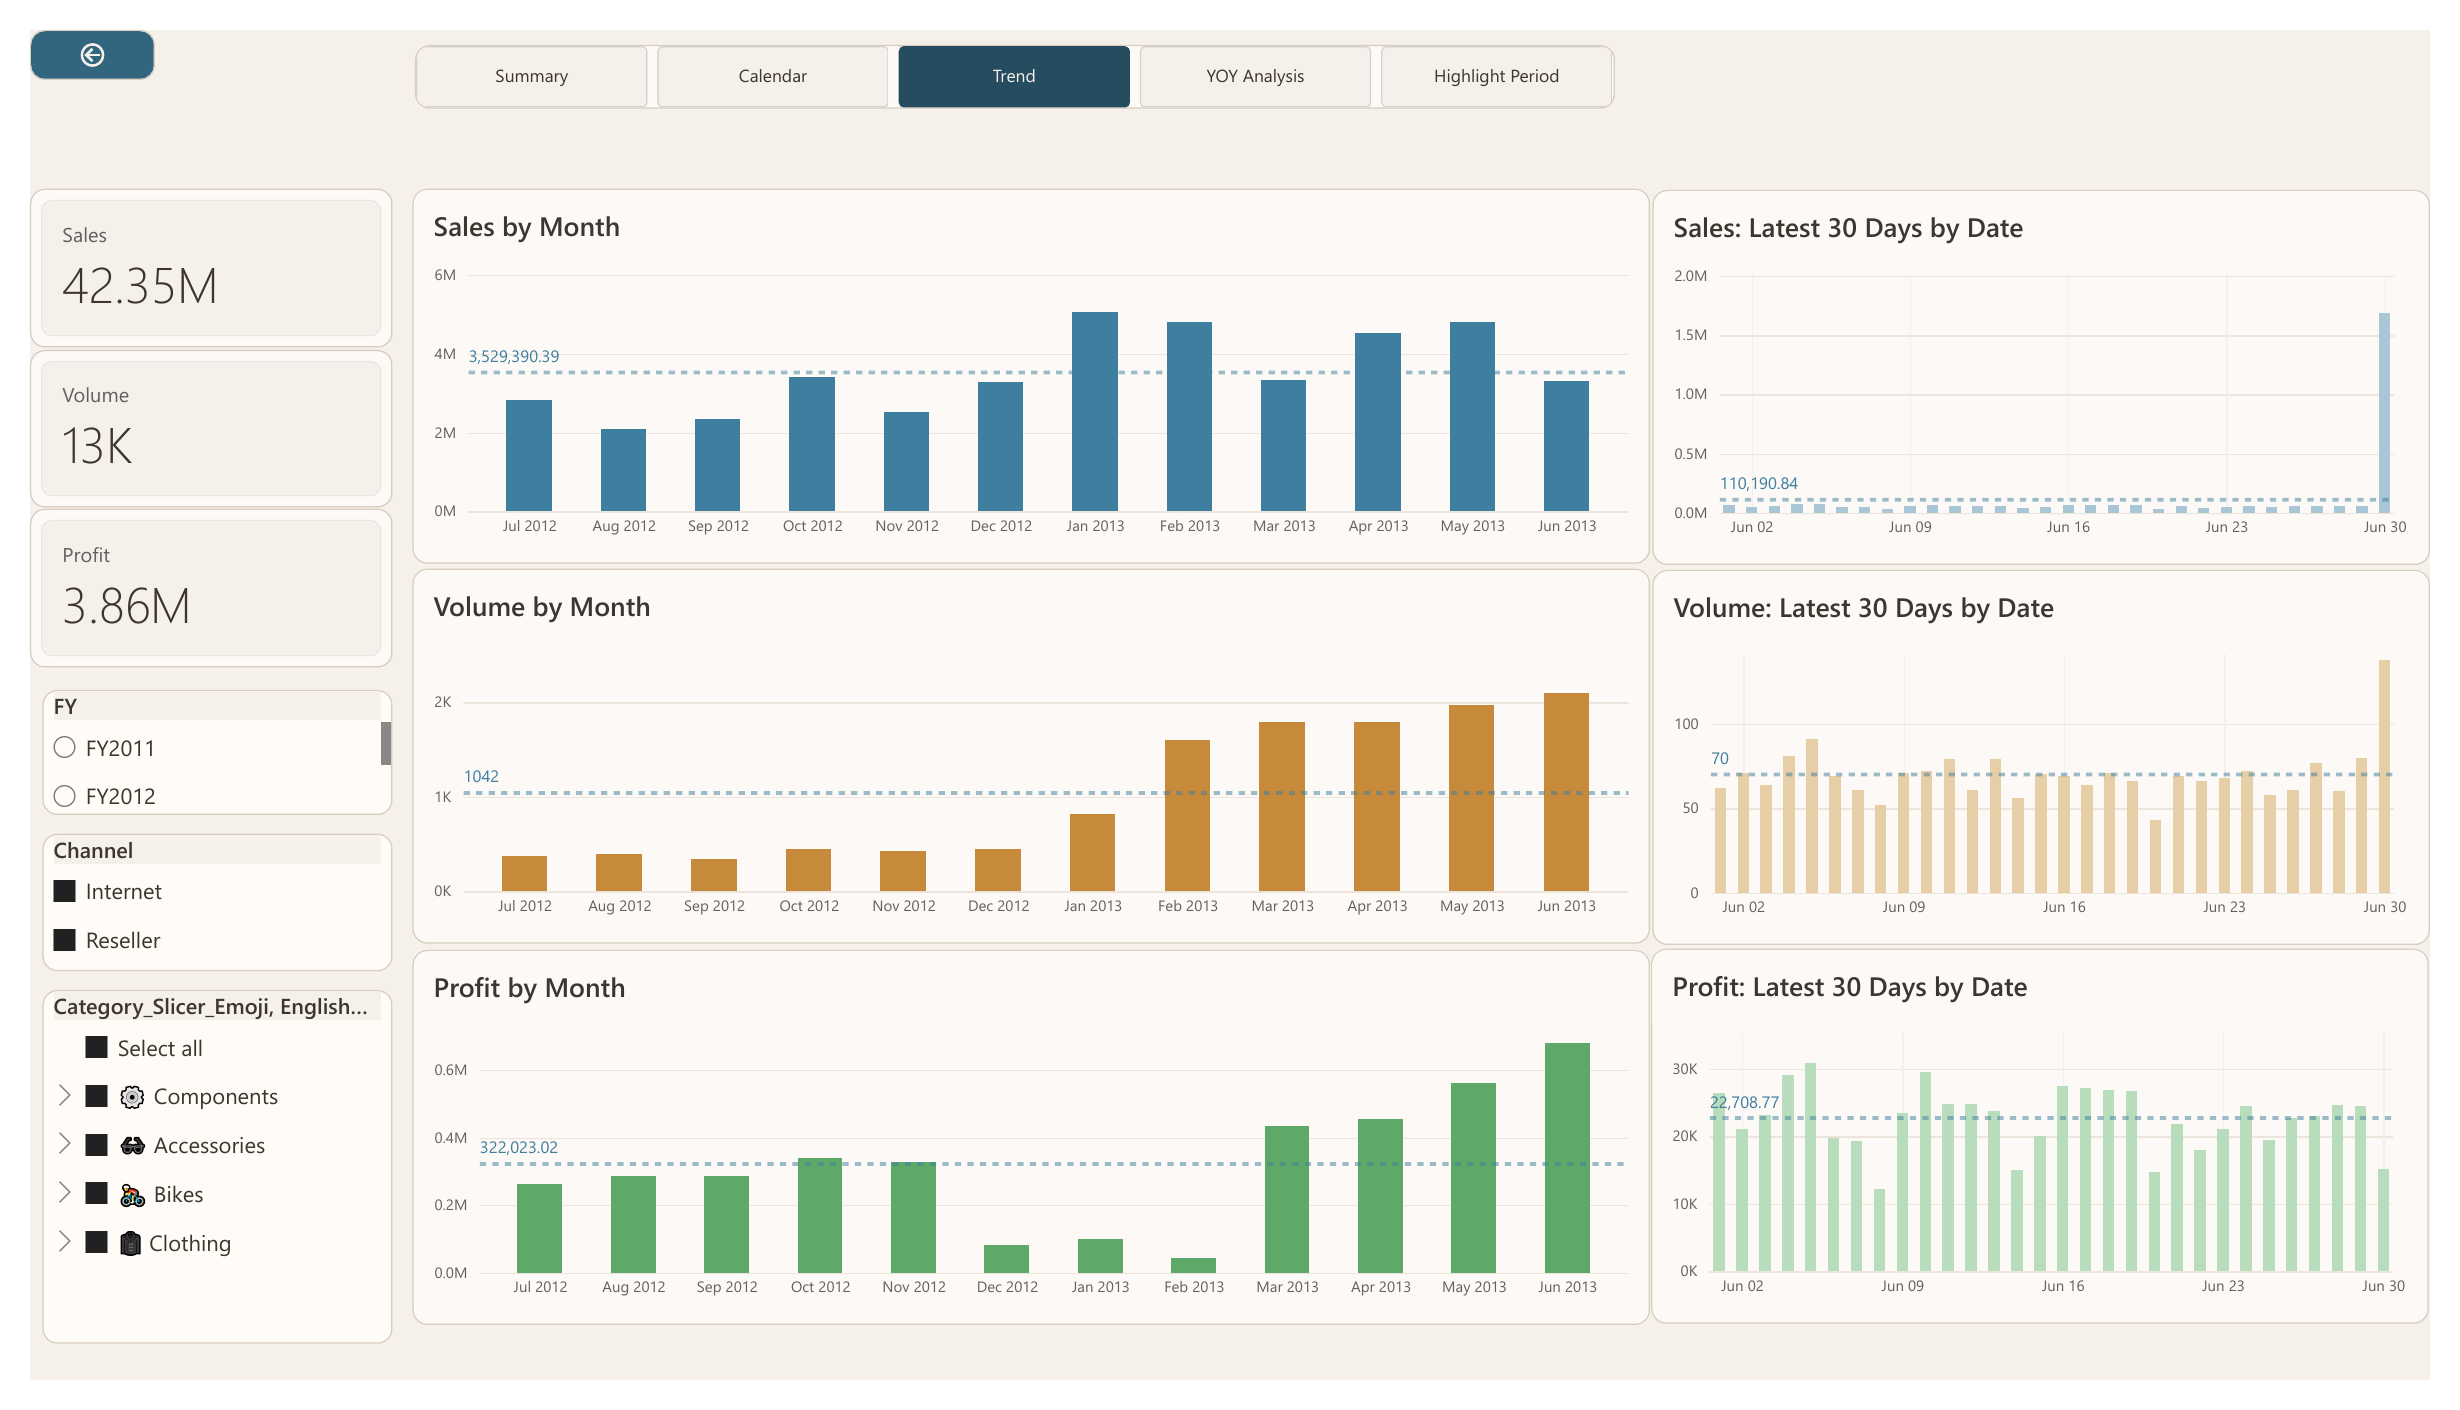

The page's visual inventory and layout, read from the dashboard file:
{"tool":"powerbi","page":{"name":"Trend","canvas":[1920,1080],"ordinal":2},"visuals":[{"type":"group","id":"g1","title":"SlicerPanel","box":[9.5,527.6,280,523],"z":0},{"type":"cardVisual","title":"Sales","fields":{"Data":["_Measures.Sales"]},"box":[0,126.7,290,127.8],"z":1000},{"type":"slicer","fields":{"Values":["Date.FY"]},"box":[9.5,527.6,280,100],"z":1000,"group":"g1"},{"type":"cardVisual","title":"Profit","fields":{"Data":["_Measures.Profit"]},"box":[0,383.3,290,126.7],"z":2000},{"type":"slicer","fields":{"Values":["Sales.Channel"]},"box":[9.5,642.6,280,110],"z":2000,"group":"g1"},{"type":"cardVisual","title":"Volume","fields":{"Data":["_Measures.Volume"]},"box":[0,255.6,290,126.7],"z":3000},{"type":"slicer","fields":{"Values":["DimProductCategory.Category_Slicer_Emoji","DimProductSubcategory.EnglishProductSubcategoryName"]},"box":[9.5,767.6,280,283],"z":3000,"group":"g1"},{"type":"pageNavigator","box":[308,12,960,51],"z":4000},{"type":"lineClusteredColumnComboChart","title":"Sales by Month","fields":{"Category":["Date.Month Label"],"Y":["_Measures.Sales"]},"box":[305.7,127.1,990,300],"z":5000},{"type":"lineClusteredColumnComboChart","title":"Volume by Month","fields":{"Category":["Date.Month Label"],"Y":["_Measures.Volume"]},"box":[305.7,431.4,990,300],"z":6000},{"type":"lineClusteredColumnComboChart","title":"Profit by Month","fields":{"Category":["Date.Month Label"],"Y":["_Measures.Profit"]},"box":[305.7,735.7,990,300],"z":7000},{"type":"lineClusteredColumnComboChart","title":"Sales: Latest 30 Days by Date","fields":{"Category":["Date.Date Hierarchy.Date"],"Y":["_Measures.Sales"]},"box":[1298,128,622,300],"z":8000},{"type":"clusteredColumnChart","title":"Volume: Latest 30 Days by Date","fields":{"Category":["Date.Date Hierarchy.Date"],"Y":["_Measures.Volume"]},"box":[1298.3,431.7,622,300],"z":9000},{"type":"clusteredColumnChart","title":"Profit: Latest 30 Days by Date","fields":{"Category":["Date.Date Hierarchy.Date"],"Y":["_Measures.Profit"]},"box":[1296.7,735,622,300],"z":10000},{"type":"actionButton","box":[0,0,100,40],"z":10001}]}

Visuals, with their boxes in screenshot pixels (x1, y1, x2, y2), scaled from the page's 1920x1080 canvas onto the 2460x1410 screenshot:
"SlicerPanel" group: rect(12, 689, 371, 1372)
"Sales" cardVisual: rect(0, 165, 372, 332)
slicer - Date.FY: rect(12, 689, 371, 819)
"Profit" cardVisual: rect(0, 500, 372, 666)
slicer - Sales.Channel: rect(12, 839, 371, 983)
"Volume" cardVisual: rect(0, 334, 372, 499)
slicer - DimProductCategory.Category_Slicer_Emoji x DimProductSubcategory.EnglishProductSubcategoryName: rect(12, 1002, 371, 1372)
pageNavigator: rect(395, 16, 1625, 82)
"Sales by Month" lineClusteredColumnComboChart: rect(392, 166, 1660, 558)
"Volume by Month" lineClusteredColumnComboChart: rect(392, 563, 1660, 955)
"Profit by Month" lineClusteredColumnComboChart: rect(392, 960, 1660, 1352)
"Sales: Latest 30 Days by Date" lineClusteredColumnComboChart: rect(1663, 167, 2459, 559)
"Volume: Latest 30 Days by Date" clusteredColumnChart: rect(1663, 564, 2459, 955)
"Profit: Latest 30 Days by Date" clusteredColumnChart: rect(1661, 960, 2458, 1351)
actionButton: rect(0, 0, 128, 52)
